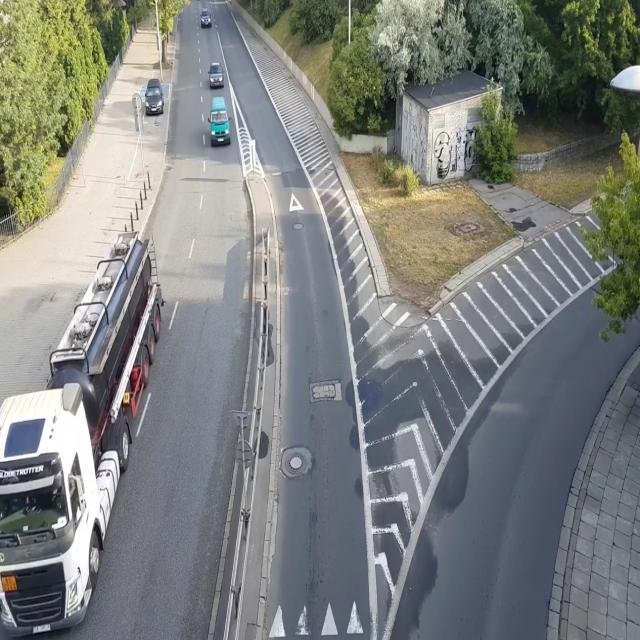car: (144, 76, 164, 118), (207, 61, 224, 88), (200, 7, 213, 29)
motorcycle: (197, 0, 201, 2)
truck: (0, 231, 163, 640)
van: (208, 94, 232, 148)
